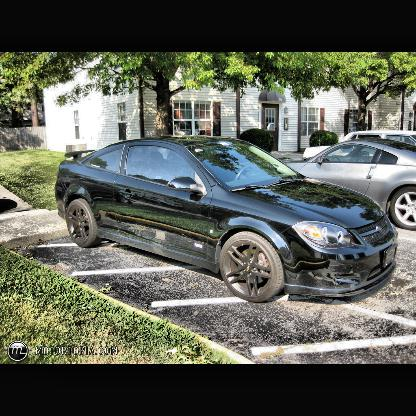Chevrolet Cobalt SS 2010: (55, 137, 399, 303)
